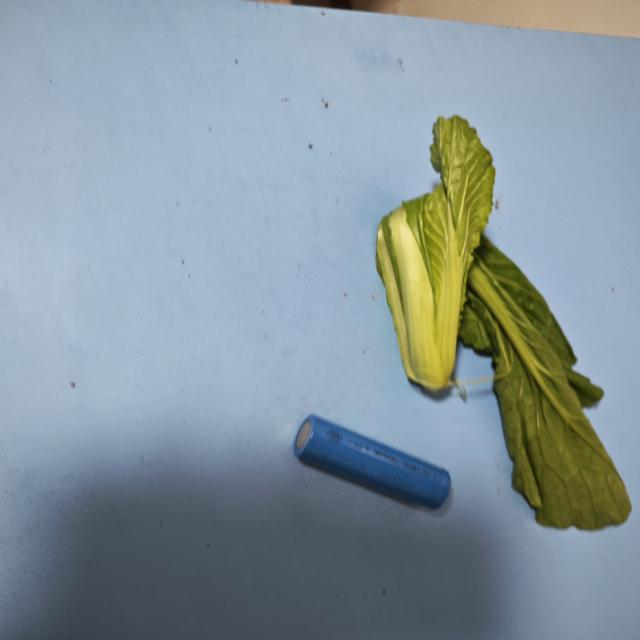-Hazardous waste - battery-: (298, 408, 456, 512)
-Kitchen waste - vegetable roots and leaves-: (461, 229, 634, 526), (375, 112, 497, 394)
